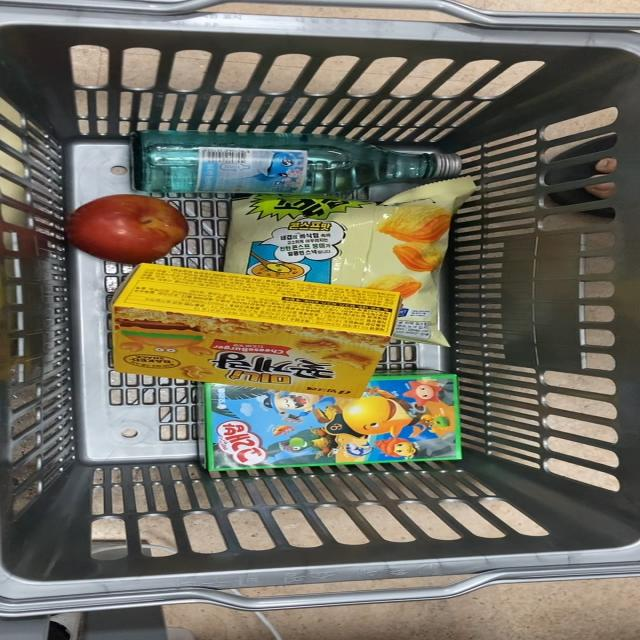ggobukchip: (212, 199, 493, 272)
goraebob: (202, 386, 477, 471)
jinro: (137, 134, 465, 202)
minicrab: (105, 266, 404, 397)
plum: (48, 188, 188, 260)
